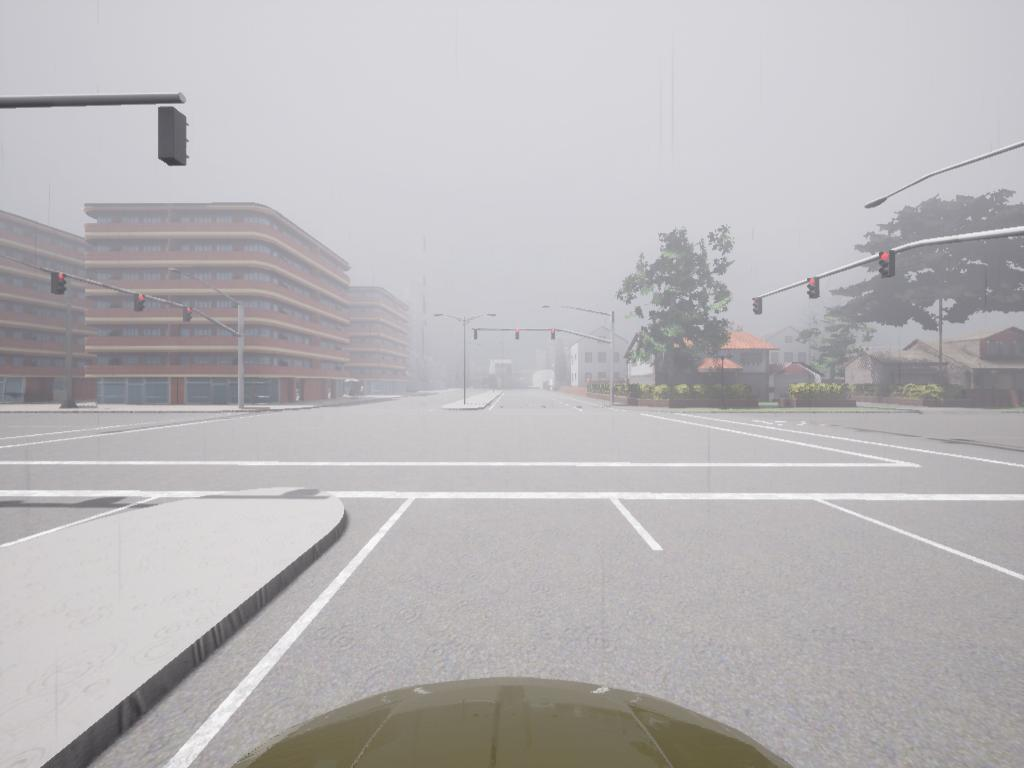traffic_light: (157, 111, 191, 170), (879, 254, 893, 280), (53, 274, 66, 295), (810, 278, 822, 300), (183, 306, 193, 328), (753, 298, 763, 315), (138, 294, 148, 310), (516, 328, 521, 342), (474, 329, 479, 342), (552, 329, 557, 340)
